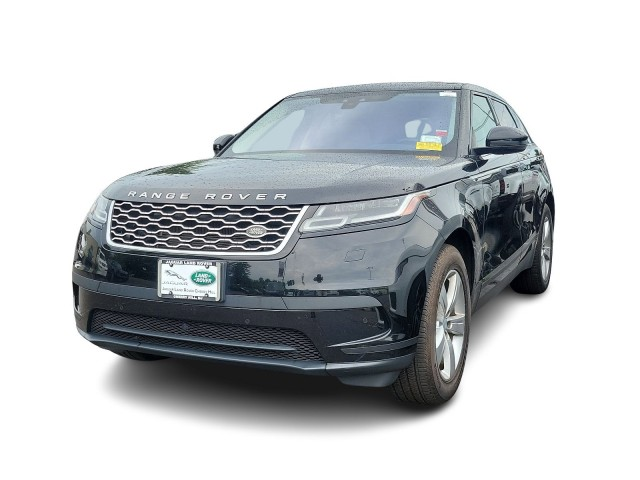car: (67, 77, 558, 407)
